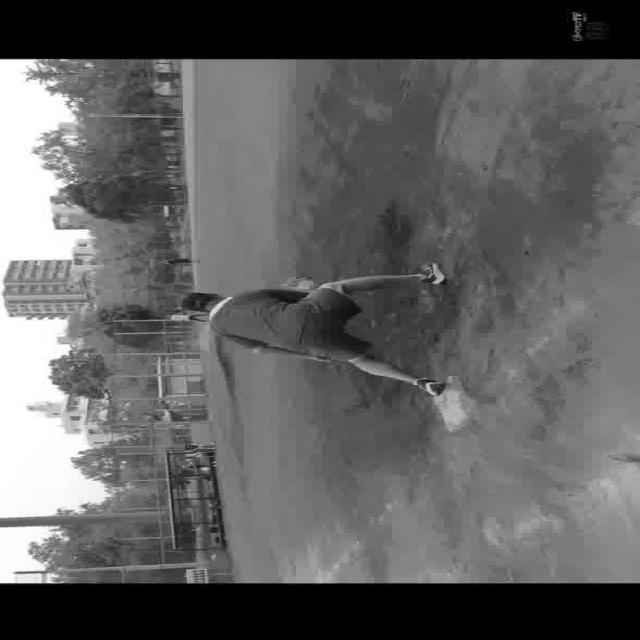base: (432, 374, 464, 428)
baseball_glove: (277, 276, 321, 292)
shoe: (414, 260, 446, 282), (410, 380, 444, 392)
